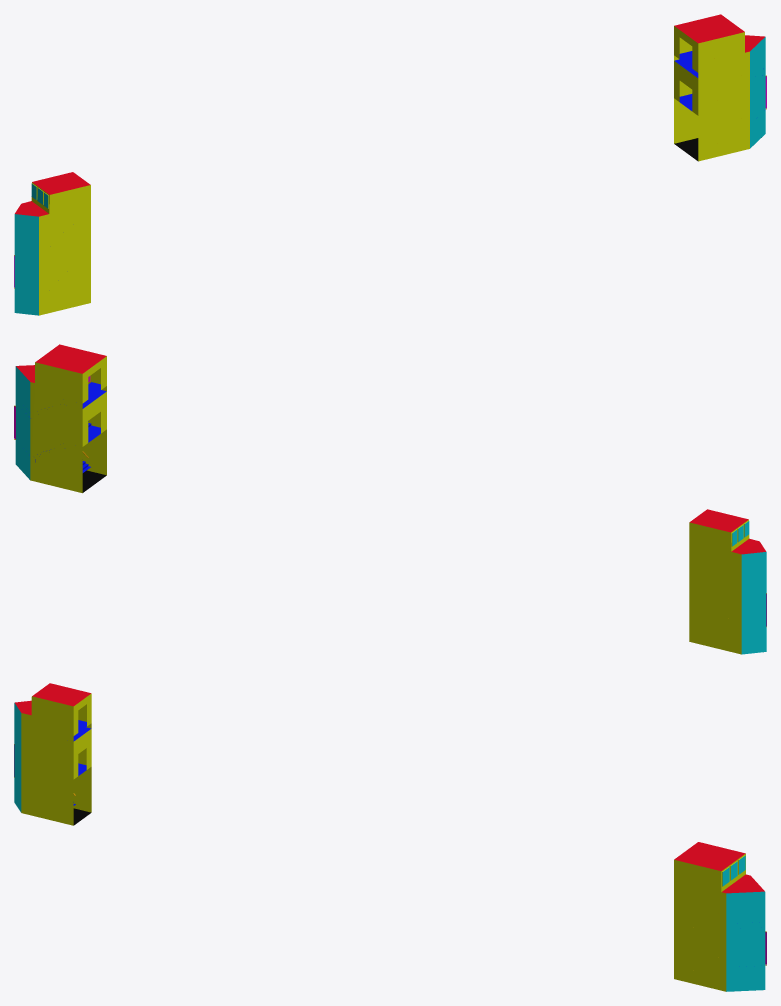
Rendered from GBW Traptreden.fbx.
3 views of the same model, one above another, from view 1: azimuth 30°, elevation 25°; view 2: azimuth 150°, elevation 25°; view 3: azimuth 330°, elevation 25° (orthographic).
Parts seen in each view (by area): view 1: StairRooms(Muren), StairRooms(Ramen), StairRoomsPlafond; view 2: StairRooms(Muren), StairRooms(Ramen), StairRoomsPlafond, StairRooms(trapzelf); view 3: StairRooms(Muren), StairRooms(Ramen), StairRoomsPlafond.
Part boxes in pixels (left/top/right/bottom): StairRooms(Muren): left=31, top=26, right=749, bottom=315; StairRooms(Ramen): left=14, top=37, right=765, bottom=315; StairRoomsPlafond: left=15, top=14, right=764, bottom=216; StairRooms(Muren): left=30, top=356, right=749, bottom=654; StairRooms(Ramen): left=15, top=366, right=766, bottom=654; StairRoomsPlafond: left=16, top=344, right=765, bottom=554; StairRooms(trapzelf): left=35, top=382, right=106, bottom=472; StairRooms(Muren): left=21, top=693, right=745, bottom=991; StairRooms(Ramen): left=14, top=703, right=765, bottom=991; StairRoomsPlafond: left=15, top=683, right=764, bottom=893.
Size of the model in its own units: 7301 by 1100 by 419.
